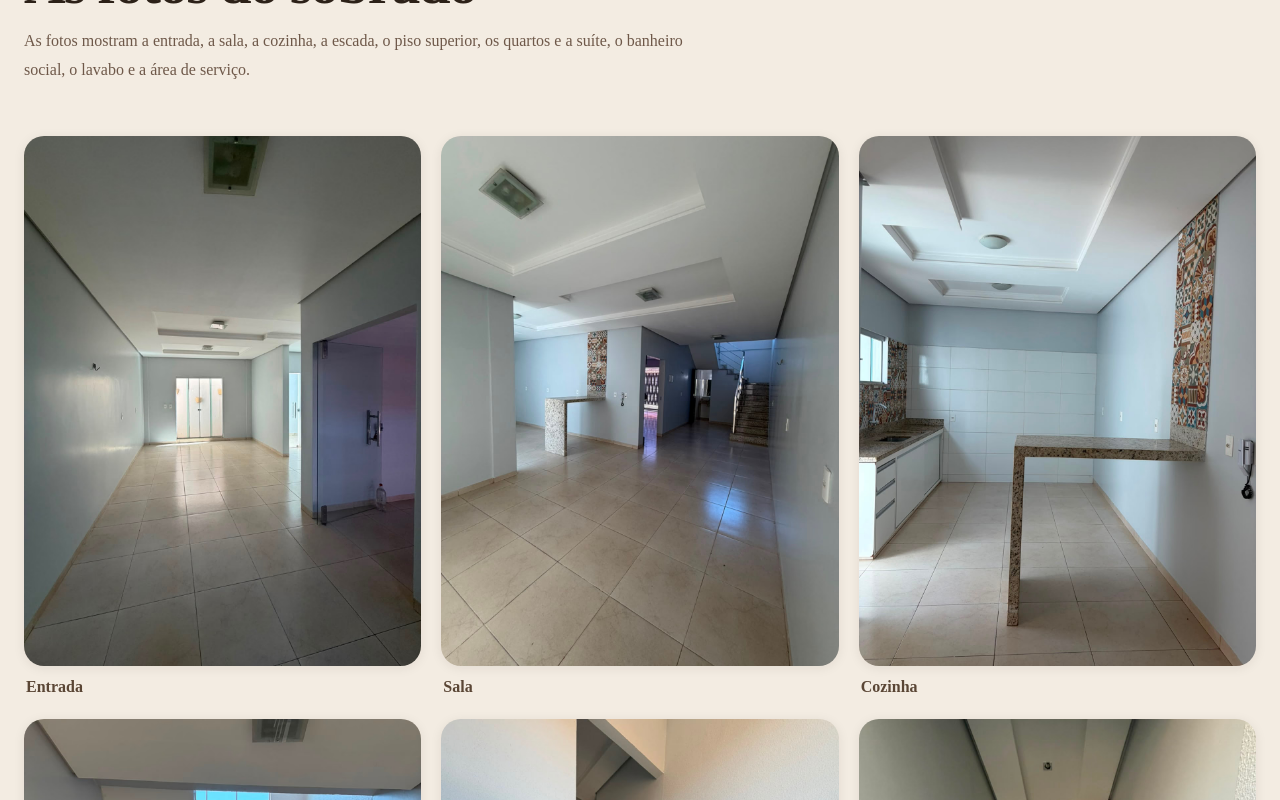
Test: gallery › closes the lightbox with the close button and restores focus to the tile
The width and height of the screenshot is (1280, 800).
(page scrolled)
Step 1. Click the button named "Sala de estar vista do hall de entrada" → (640, 401), box left=441, top=136, right=839, bottom=666
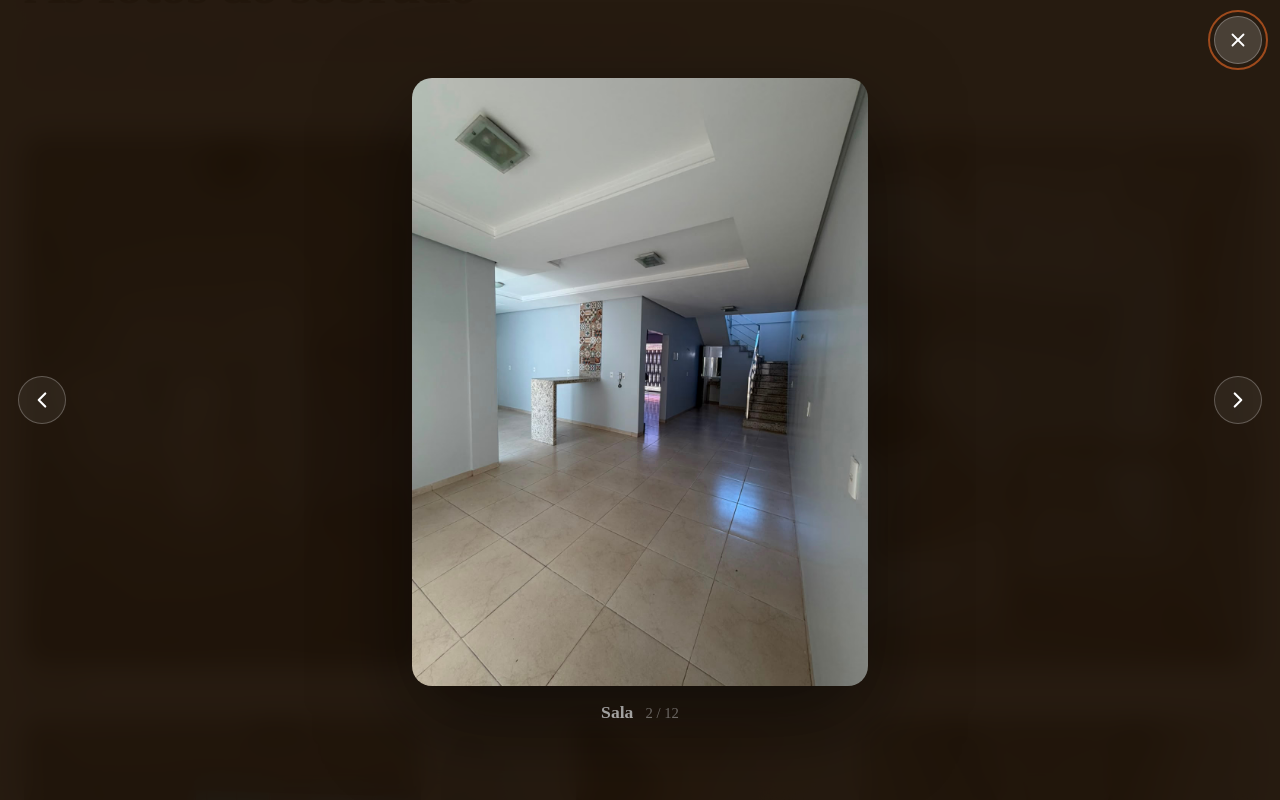
Step 2. Click the button named "Fechar galeria" → (1238, 40), box left=1214, top=16, right=1262, bottom=64
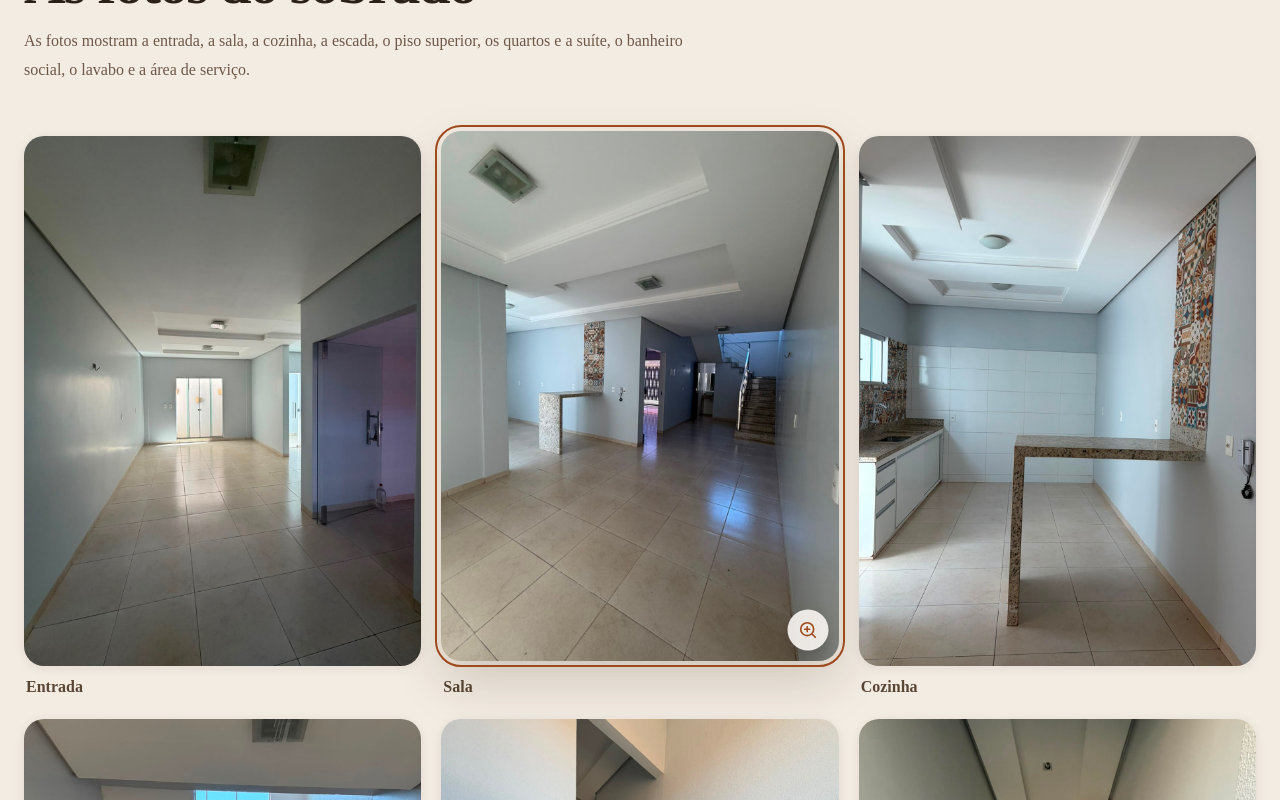
Expected: the dialog is gone
